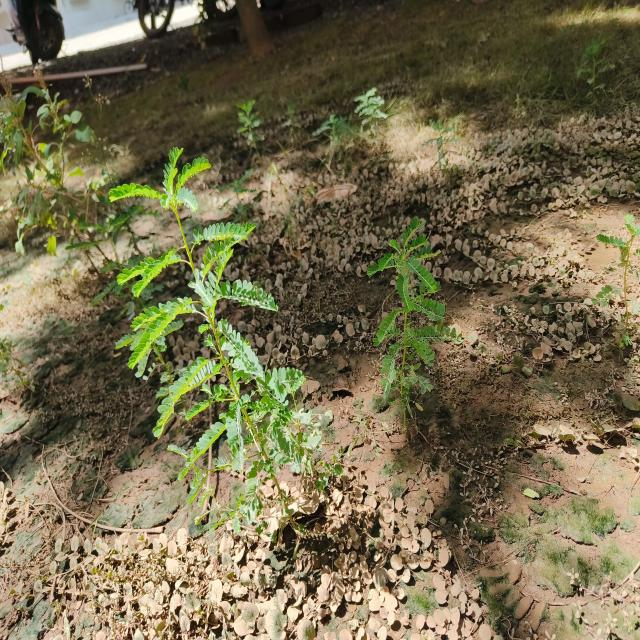weed: (93, 137, 324, 525), (363, 221, 451, 406)
